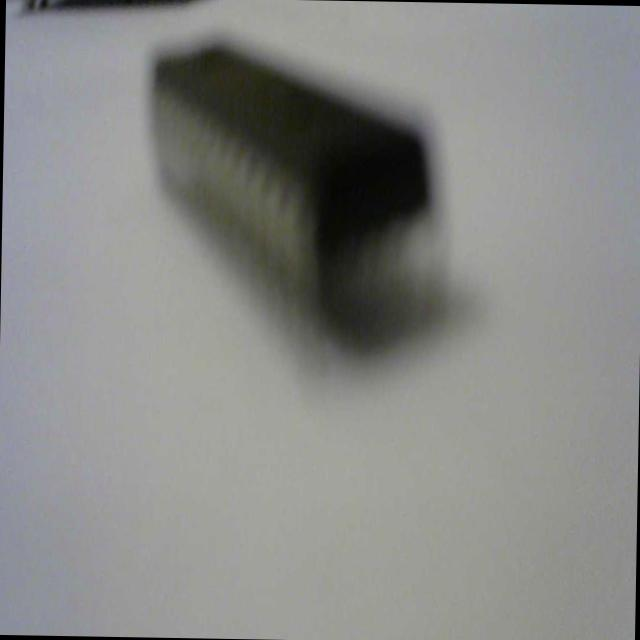atmega: (140, 30, 462, 364)
